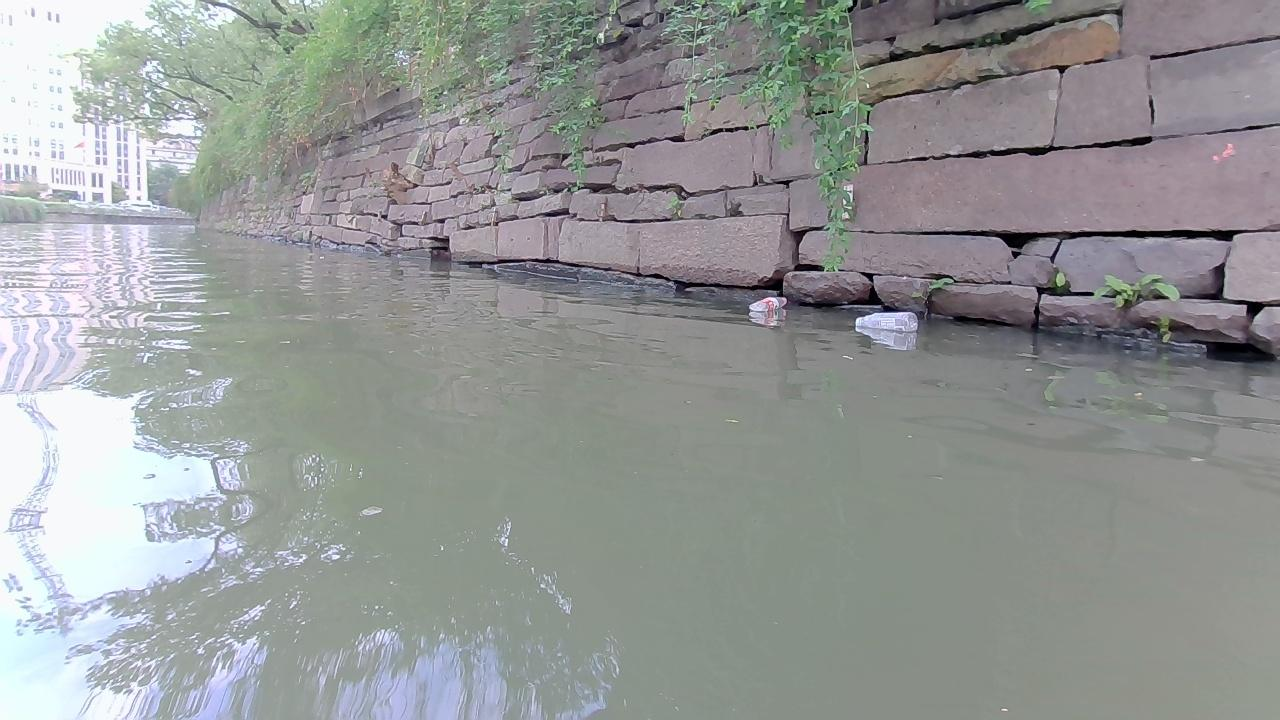bottle: (855, 311, 918, 330), (747, 295, 786, 311)
